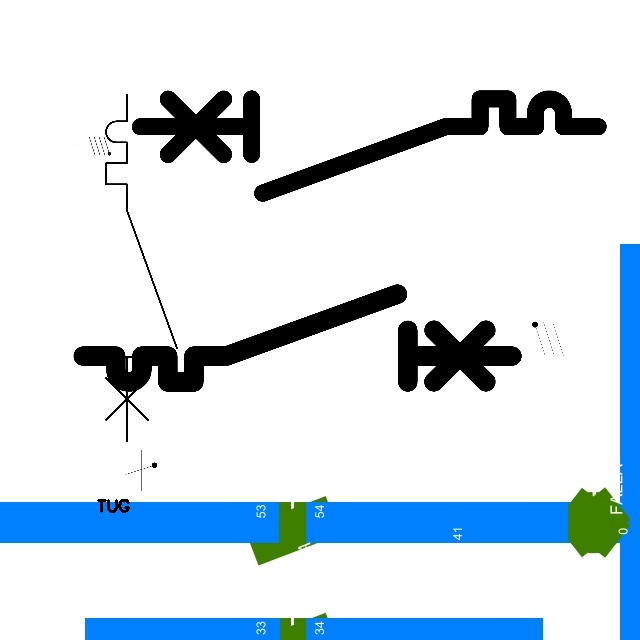interruptor_termomagnetico: (128, 87, 610, 205), (72, 283, 523, 393), (97, 86, 186, 449)
